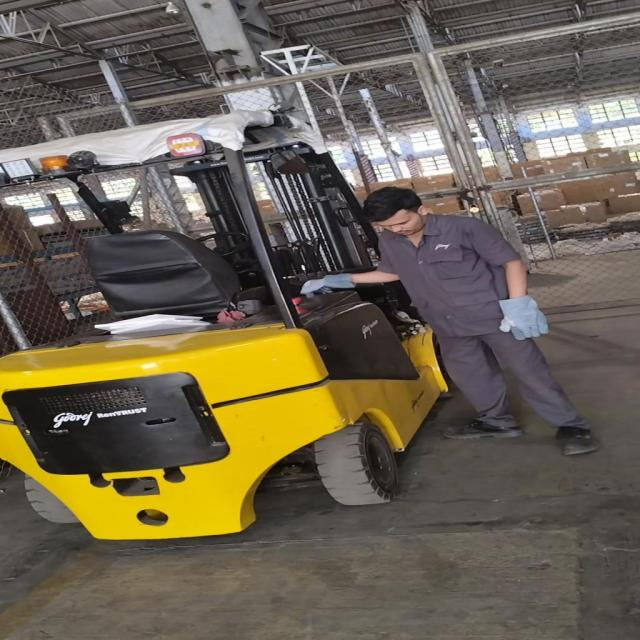Gloves-Detection: (494, 302, 554, 350), (298, 270, 357, 296)
